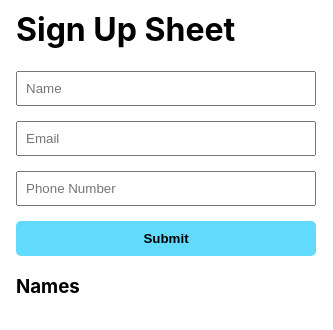
Test: shows phone validation error if phone is invalid
Click the button "Submit" at x=166, y=238, box [16,221,316,256]
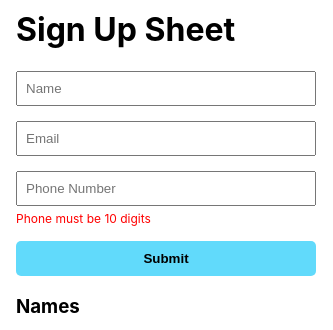
Expected: the text "Phone must be 10 digits" is shown, [16,211,151,226]
